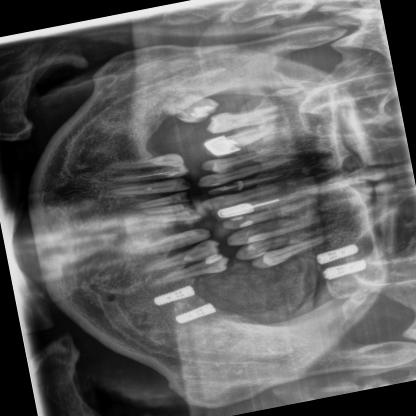ITI: (170, 302, 220, 326), (320, 258, 368, 281), (150, 284, 197, 306), (314, 244, 359, 264)
